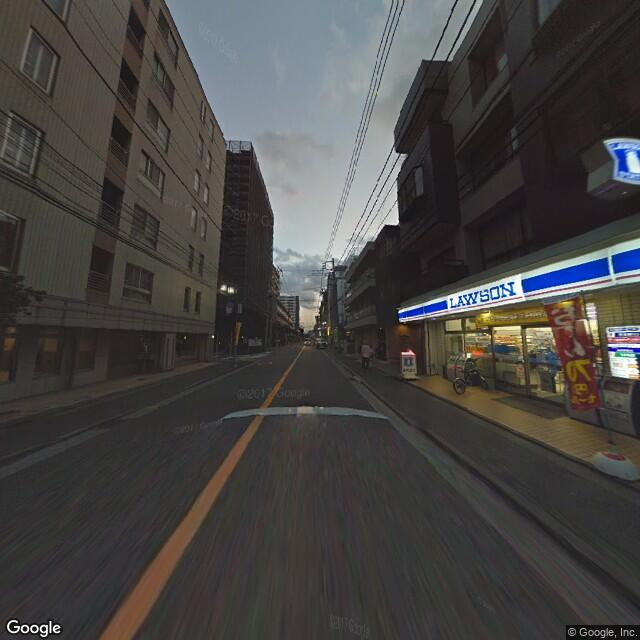lawson: (397, 227, 638, 327), (601, 132, 640, 190)
